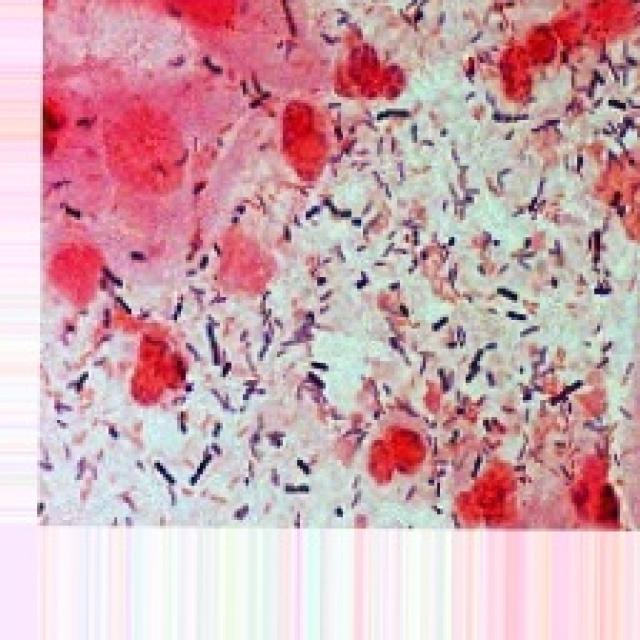Rod_bacteria: (37, 0, 637, 529)
